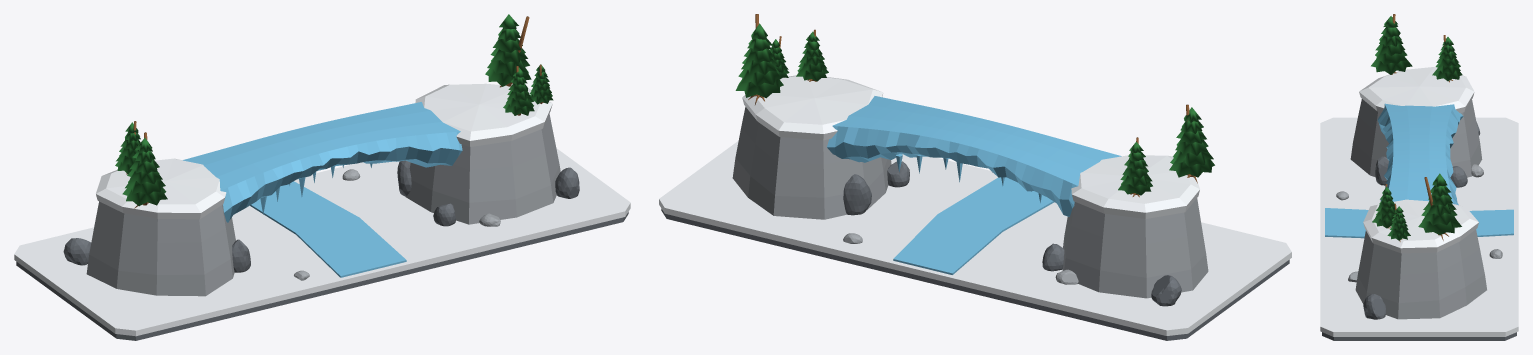
The model's file is low-poly-ice-bridge.glb.
3 renders of one model, left to right at view 1: azimuth 30°, elevation 25°; view 2: azimuth 150°, elevation 25°; view 3: azimuth 270°, elevation 25°, orthographic. The views are drawn at different scales.
Visible parts, largest first — view 1: Base_Snow, IceArch, Ledge_L, Ledge_R, FrozenStream, SnowCap_R, SnowCap_L, Base_Stone, Pine_2, Pine_0, Pine_3, Pine_1 (+4 smaller); view 2: Base_Snow, IceArch, Ledge_L, Ledge_R, FrozenStream, SnowCap_R, SnowCap_L, Base_Stone, Pine_2, Pine_0, Pine_1, Pine_3 (+4 smaller); view 3: Base_Snow, Ledge_R, IceArch, SnowCap_L, Ledge_L, SnowCap_R, FrozenStream, Pine_2, Pine_0, Pine_1, Base_Stone, Pine_3 (+4 smaller).
Boxes of the visible parts, x1,y1,x2,y2 form: Base_Snow: [14, 148, 630, 336]; IceArch: [182, 102, 462, 222]; Ledge_L: [86, 201, 235, 296]; Ledge_R: [405, 114, 560, 224]; FrozenStream: [250, 181, 406, 277]; SnowCap_R: [415, 83, 552, 146]; SnowCap_L: [96, 158, 226, 219]; Base_Stone: [16, 212, 628, 340]; Pine_2: [485, 14, 531, 87]; Pine_0: [122, 132, 167, 208]; Pine_3: [503, 66, 534, 115]; Pine_1: [115, 121, 140, 174]; Base_Snow: [659, 141, 1291, 335]; IceArch: [827, 96, 1121, 216]; Ledge_L: [1062, 198, 1208, 298]; Ledge_R: [732, 107, 891, 219]; FrozenStream: [893, 177, 1054, 274]; SnowCap_R: [742, 75, 883, 140]; SnowCap_L: [1071, 155, 1199, 218]; Base_Stone: [661, 208, 1289, 340]; Pine_2: [735, 14, 783, 104]; Pine_0: [1169, 104, 1214, 183]; Pine_1: [1118, 137, 1152, 197]; Pine_3: [796, 29, 828, 81]; Base_Snow: [1320, 117, 1518, 336]; Ledge_R: [1355, 229, 1486, 319]; IceArch: [1377, 103, 1463, 205]; SnowCap_L: [1359, 67, 1474, 113]; Ledge_L: [1350, 99, 1482, 177]; SnowCap_R: [1363, 199, 1478, 253]; FrozenStream: [1325, 208, 1513, 238]; Pine_2: [1418, 173, 1461, 240]; Pine_0: [1371, 14, 1412, 74]; Pine_1: [1432, 35, 1462, 82]; Base_Stone: [1322, 332, 1516, 340]; Pine_3: [1372, 184, 1395, 228].
Bounding box in the file's own units: 62.4 × 19.54 × 24.4.
